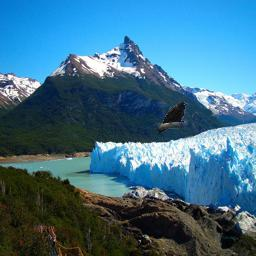Crow: (157, 102, 189, 133)
